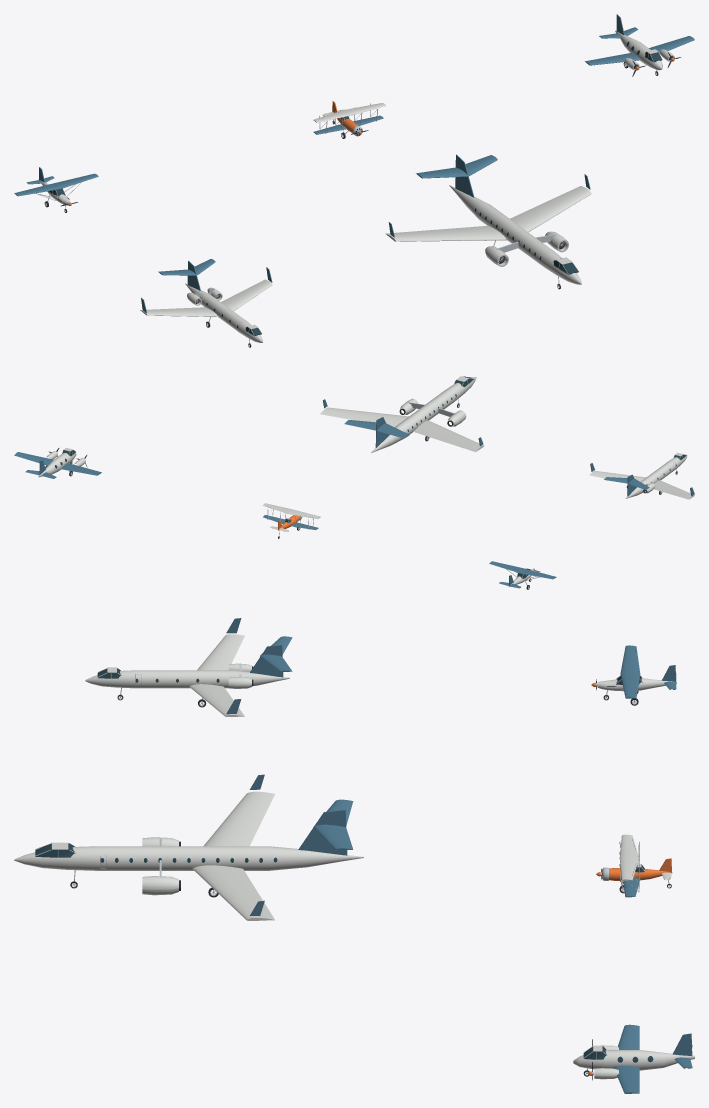
The model's file is transport-collection-hd-air-collection-1-e5dc210b__18747.glb.
The picture shows the model from 3 angles, top to bottom: view 1: azimuth 30°, elevation 25°; view 2: azimuth 150°, elevation 25°; view 3: azimuth 270°, elevation 25°; orthographic projection. The views are drawn at different scales.
Parts seen in each view (by area): view 1: 004-regional-airliner/0, 003-business-jet/0, 004-regional-airliner/5, 002-twin-prop-commuter/2, 002-twin-prop-commuter/0, 000-high-wing-trainer/2, 003-business-jet/5; view 2: 004-regional-airliner/0, 003-business-jet/0, 004-regional-airliner/5, 002-twin-prop-commuter/2, 002-twin-prop-commuter/0, 000-high-wing-trainer/2, 003-business-jet/5, 001-radial-biplane/1; view 3: 004-regional-airliner/0, 003-business-jet/0, 004-regional-airliner/5, 002-twin-prop-commuter/0, 002-twin-prop-commuter/2, 003-business-jet/5, 000-high-wing-trainer/2, 001-radial-biplane/1.
Boxes of the visible parts, box(x1,y1,x2,y2) form: 004-regional-airliner/0: box(385, 185, 591, 284); 003-business-jet/0: box(140, 279, 272, 342); 004-regional-airliner/5: box(388, 154, 590, 237); 002-twin-prop-commuter/2: box(585, 14, 694, 65); 002-twin-prop-commuter/0: box(615, 30, 674, 70); 000-high-wing-trainer/2: box(14, 167, 98, 196); 003-business-jet/5: box(141, 259, 272, 313); 004-regional-airliner/0: box(320, 376, 483, 452); 003-business-jet/0: box(589, 452, 694, 499); 004-regional-airliner/5: box(323, 399, 483, 447); 002-twin-prop-commuter/2: box(14, 452, 101, 478); 002-twin-prop-commuter/0: box(38, 447, 85, 477); 000-high-wing-trainer/2: box(489, 561, 556, 588); 003-business-jet/5: box(590, 463, 694, 496); 001-radial-biplane/1: box(262, 503, 320, 531); 004-regional-airliner/0: box(14, 791, 363, 920); 003-business-jet/0: box(85, 634, 289, 716); 004-regional-airliner/5: box(250, 774, 353, 915); 002-twin-prop-commuter/0: box(573, 1045, 694, 1079); 002-twin-prop-commuter/2: box(613, 1024, 692, 1093); 003-business-jet/5: box(226, 618, 292, 714); 000-high-wing-trainer/2: box(620, 645, 676, 698); 001-radial-biplane/1: box(619, 834, 671, 880).
Size of the model in its own units: 81.43 by 6.6 by 52.01.
